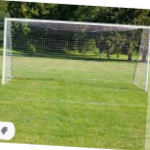goals: (2, 16, 150, 95)
